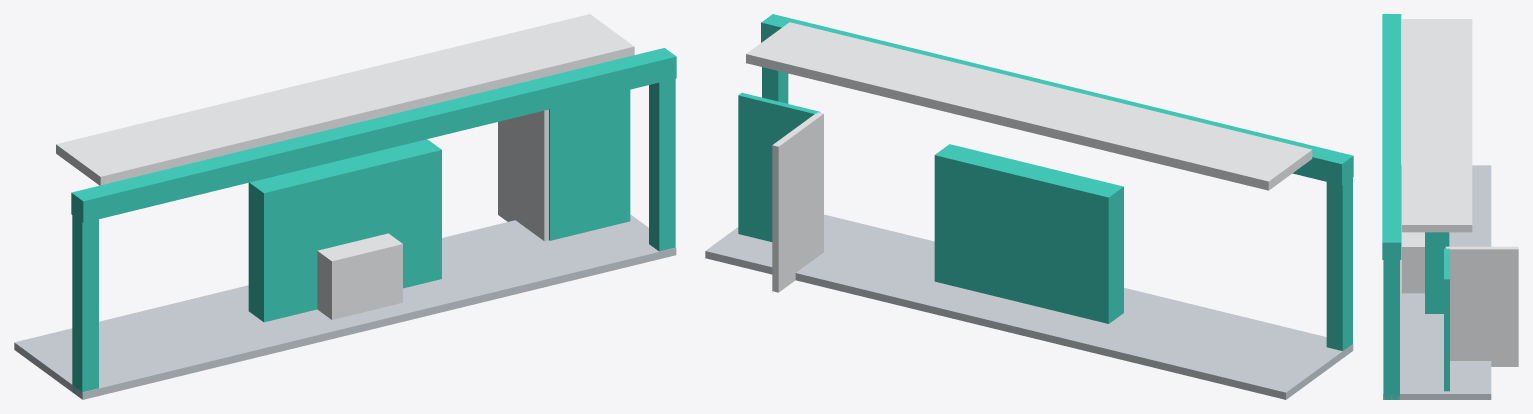
The picture shows the model from 3 angles, left to right: view 1: azimuth 30°, elevation 25°; view 2: azimuth 150°, elevation 25°; view 3: azimuth 270°, elevation 25°; orthographic projection. The views are drawn at different scales.
Visible parts, largest first — view 1: Exhibition Booth Concept; view 2: Exhibition Booth Concept; view 3: Exhibition Booth Concept.
Boxes of the visible parts, bbox=[...] form: Exhibition Booth Concept: bbox=[14, 14, 676, 399]; Exhibition Booth Concept: bbox=[705, 14, 1353, 399]; Exhibition Booth Concept: bbox=[1382, 14, 1518, 399].
Bounding box in the file's own units: 10 × 3.34 × 2.52.
